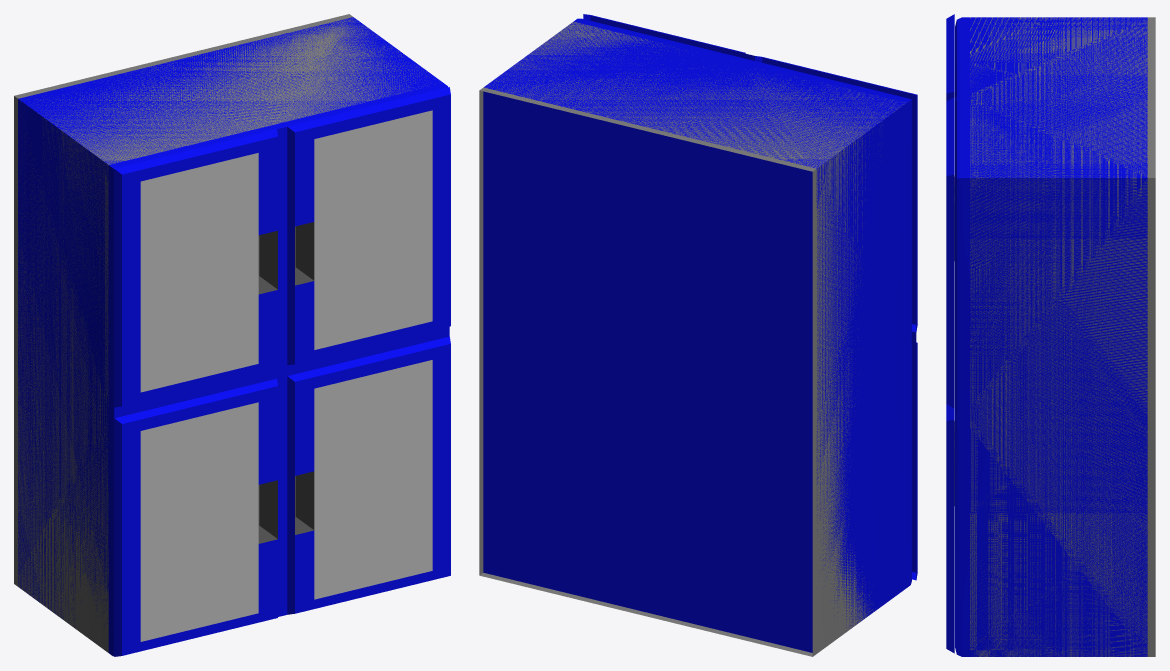
The picture shows the model from 3 angles, left to right: view 1: azimuth 30°, elevation 25°; view 2: azimuth 150°, elevation 25°; view 3: azimuth 270°, elevation 25°; orthographic projection.
Visible parts, largest first — view 1: 对象001, Box002, Box003; view 2: Box002, Box003, 对象001; view 3: Box002, Box003, 对象001.
Part boxes in pixels (<box>): 对象001: <box>114,87,450,656</box>; Box002: <box>18,17,447,656</box>; Box003: <box>14,14,435,652</box>; Box002: <box>483,18,911,652</box>; Box003: <box>479,21,904,656</box>; 对象001: <box>583,14,917,580</box>; Box002: <box>955,17,1147,656</box>; Box003: <box>970,17,1155,656</box>; 对象001: <box>946,14,954,653</box>.
Size of the model in its own units: 41.77 by 58.04 by 22.9.
